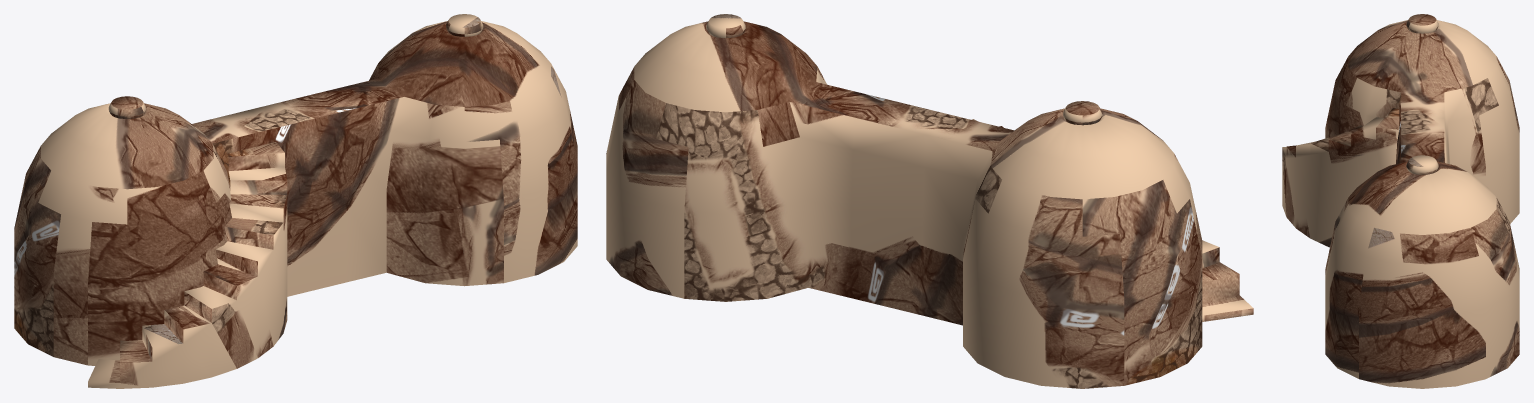
Rendered from Silos.fbx.
3 renders of one model, left to right at view 1: azimuth 30°, elevation 25°; view 2: azimuth 150°, elevation 25°; view 3: azimuth 270°, elevation 25°, orthographic. The views are drawn at different scales.
Parts seen in each view (by area): view 1: Cylinder001; view 2: Cylinder001; view 3: Cylinder001.
Boxes of the visible parts, x1,y1,x2,y2 form: Cylinder001: (14,14,577,388); Cylinder001: (606,14,1253,388); Cylinder001: (1282,14,1519,388).
Size of the model in its own units: 1926 by 743 by 858.
